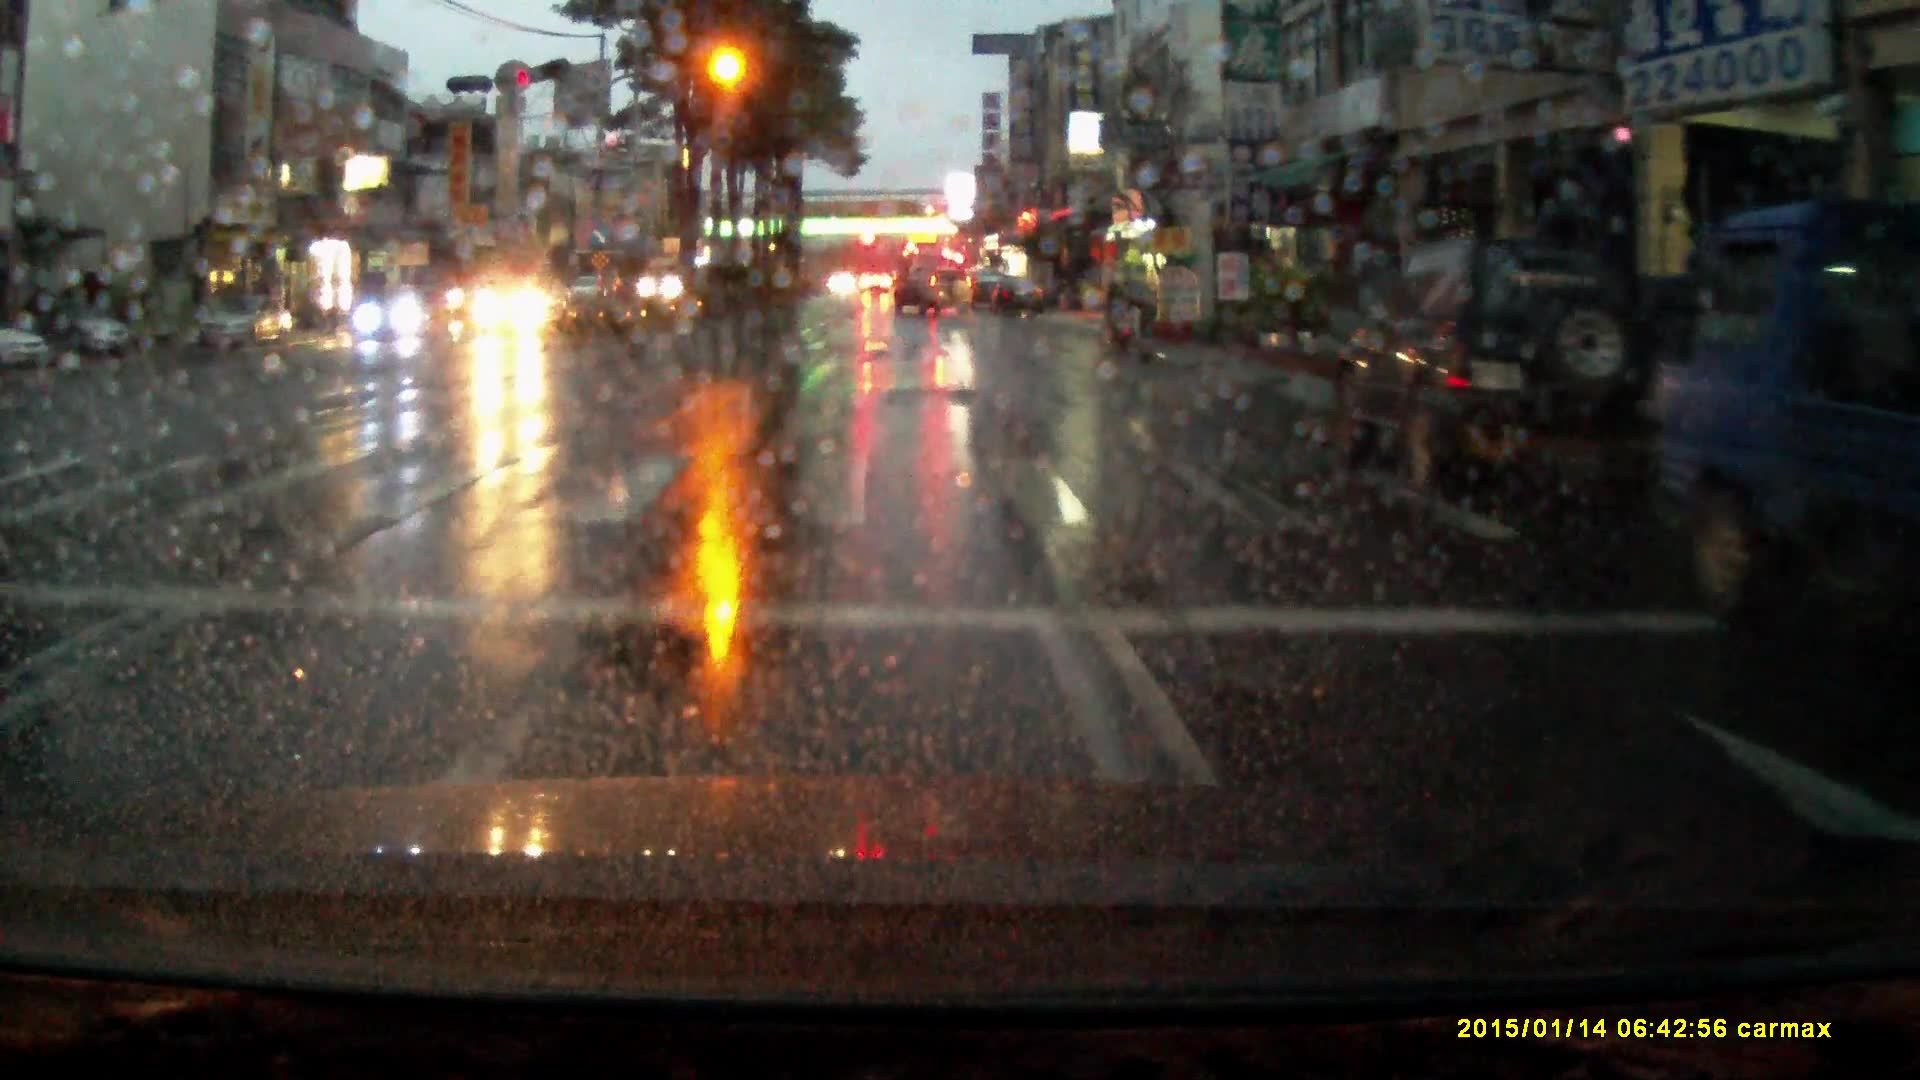vehicle: (1634, 208, 1920, 646), (1331, 247, 1681, 487), (195, 295, 295, 360), (475, 276, 576, 334), (359, 286, 448, 345), (893, 269, 975, 322), (65, 305, 135, 357), (899, 244, 948, 305), (992, 277, 1044, 320), (1, 326, 51, 368), (567, 278, 611, 309), (975, 272, 1005, 313), (858, 272, 895, 301)
